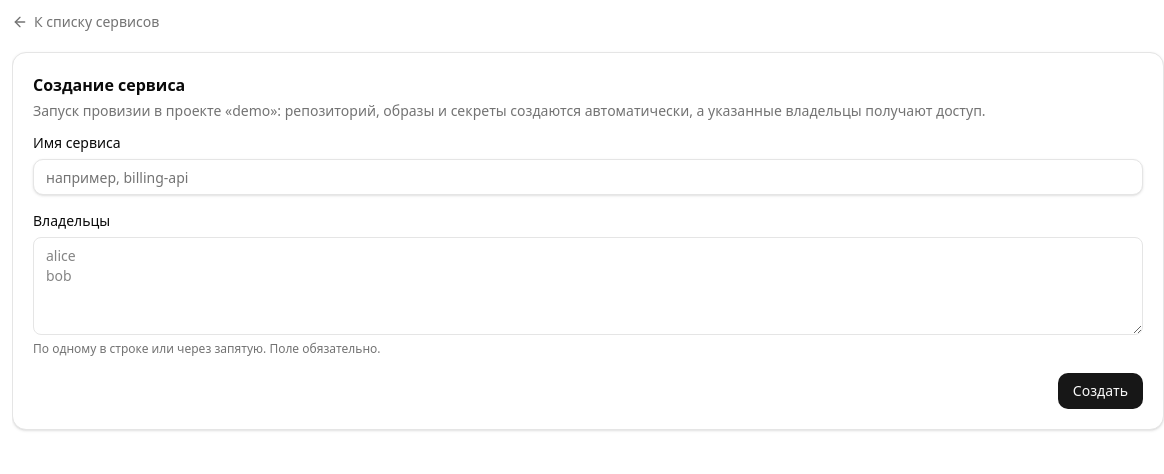
Test: CreateServicePage › без владельцев → клиентская валидация, запрос не уходит
Type "svc" into the field labelled "Имя сервиса" at (588, 177), box [33,159,1143,195]
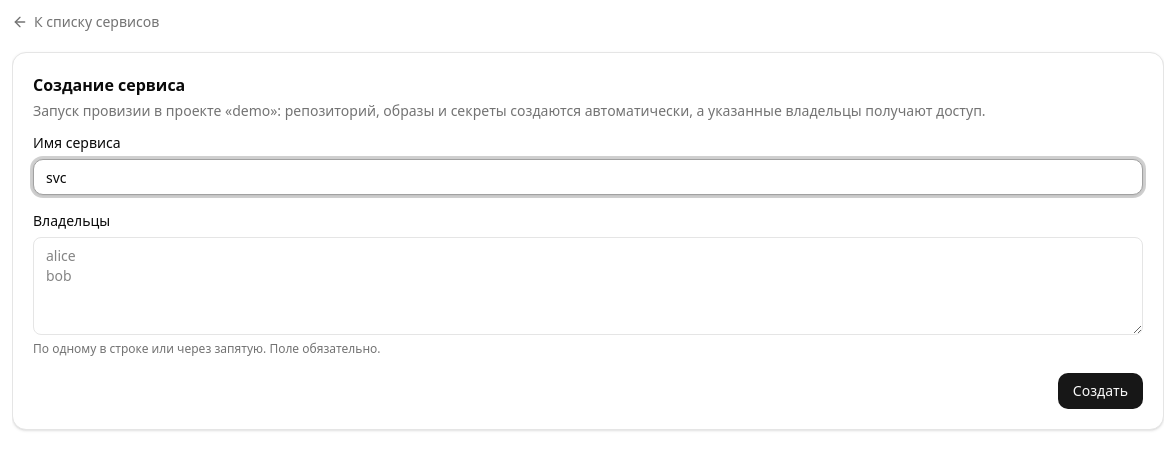
Click the button "Создать" at (1100, 391), box [1058,373,1143,409]
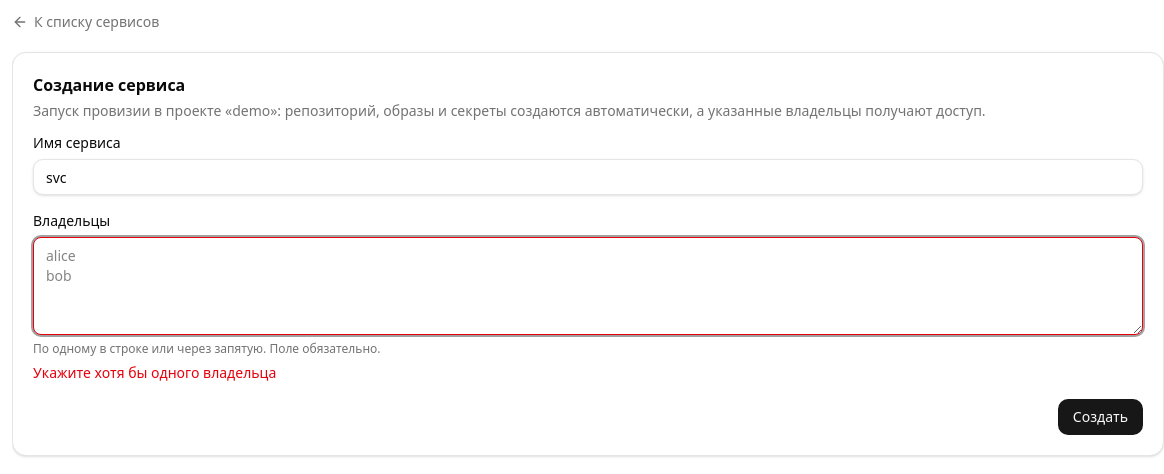
Check: the text "Укажите хотя бы одного владельца" is shown, box [33,363,276,382]
